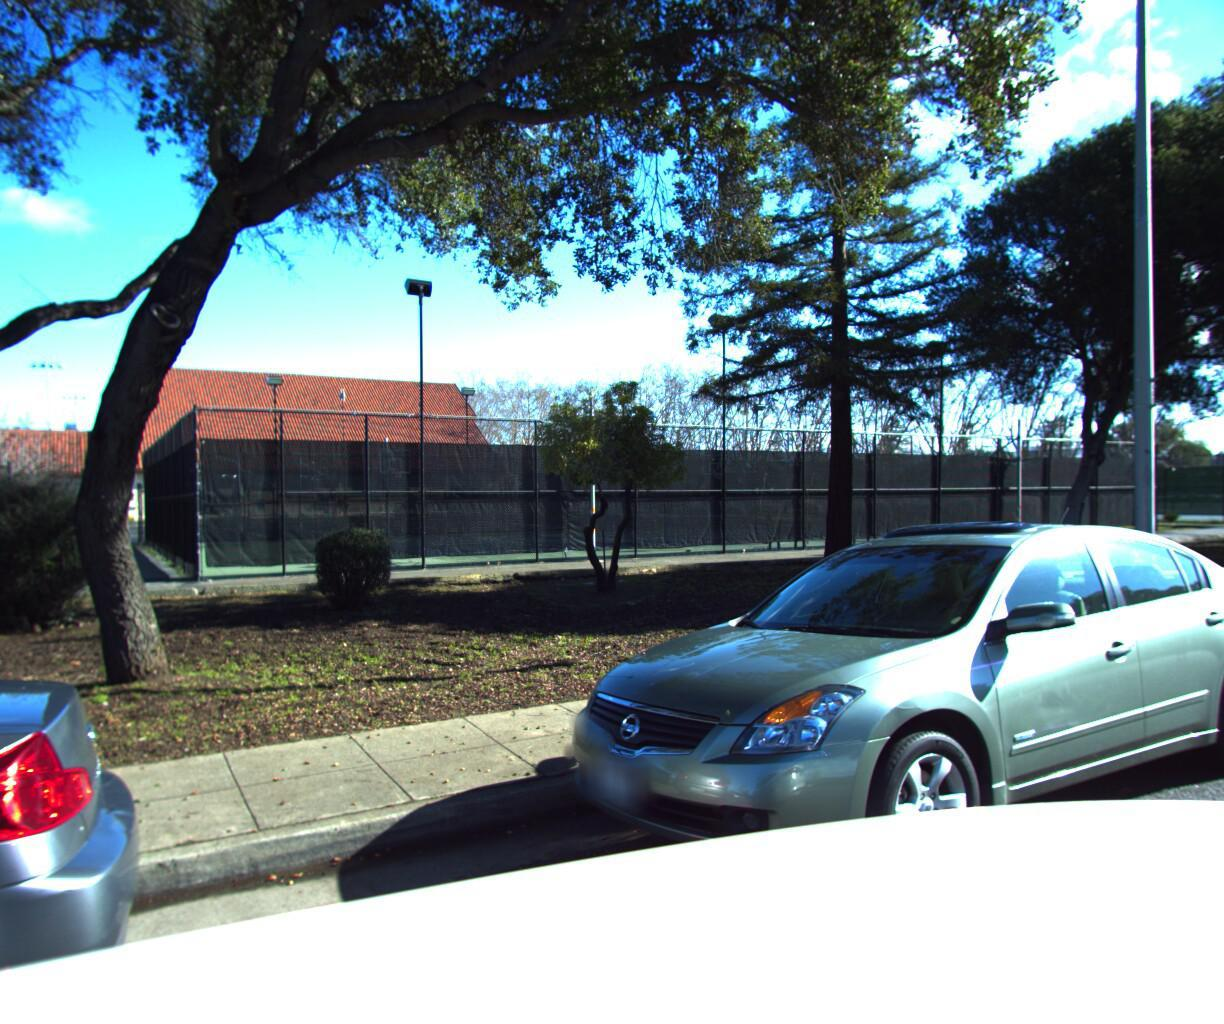car: (505, 505, 1224, 989), (1170, 479, 1224, 724)
